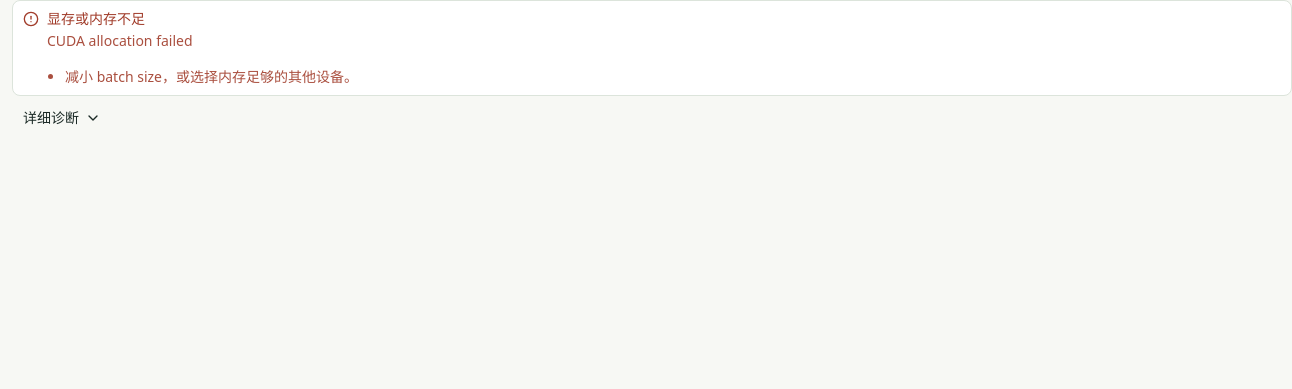
keeps the original out_of_memory diagnosis visible
Expected: the text "CUDA allocation failed" is shown, [47,31,193,50]
Click the button "详细诊断": (61, 118) [12,102,110,134]
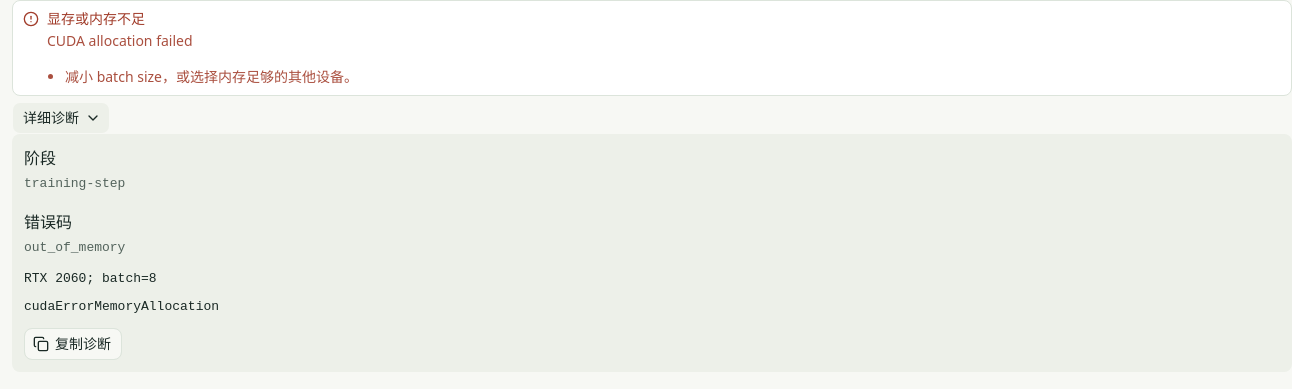
Now the text "training-step" is shown, box [24,176,125,191]
Now the text "RTX 2060; batch=8" is shown, box [24,271,157,286]
Now the text "cudaErrorMemoryAllocation" is shown, box [24,298,219,314]
